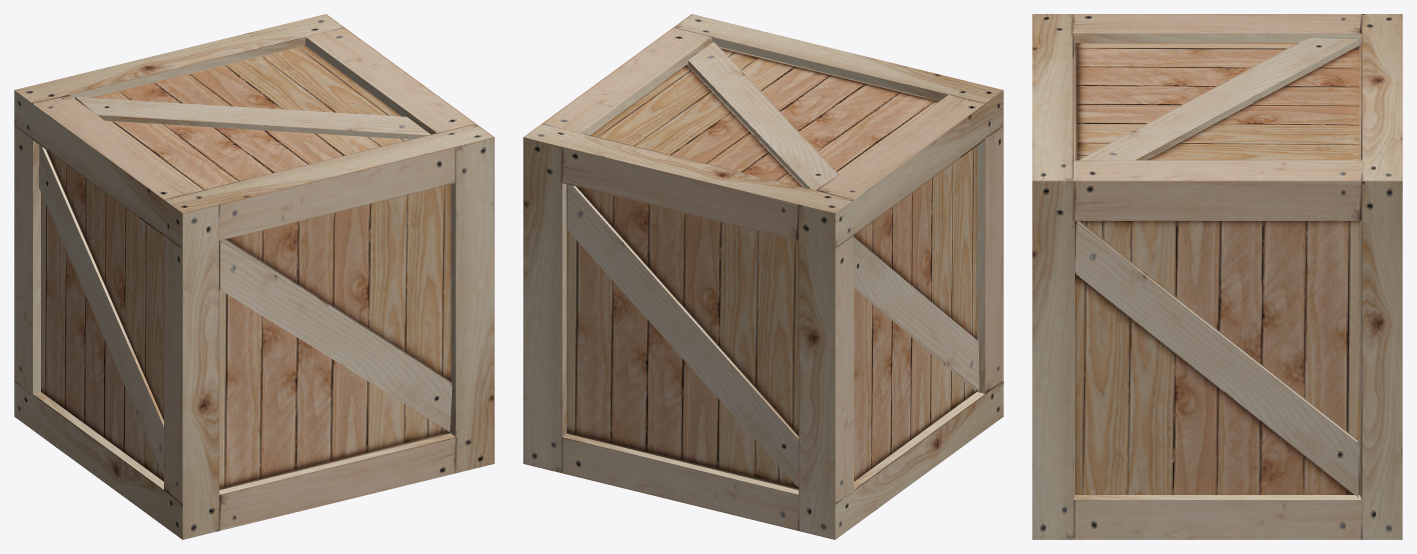
3 renders of one model, left to right at view 1: azimuth 30°, elevation 25°; view 2: azimuth 150°, elevation 25°; view 3: azimuth 270°, elevation 25°, orthographic. The views are drawn at different scales.
Visible parts, largest first — view 1: Box Wood; view 2: Box Wood; view 3: Box Wood.
Boxes of the visible parts, bbox=[...] form: Box Wood: bbox=[14, 14, 494, 539]; Box Wood: bbox=[523, 14, 1003, 539]; Box Wood: bbox=[1032, 14, 1402, 539].
Size of the model in its own units: 128 by 128 by 120.
1 material, 1 textured.
